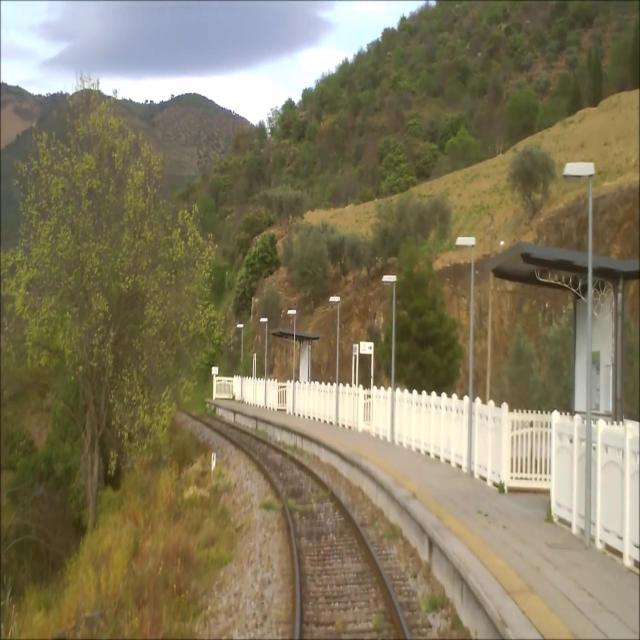rail-track: (213, 421, 406, 639)
